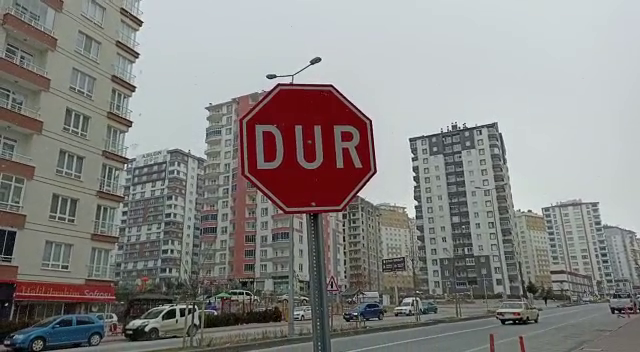stop: (235, 79, 383, 219)
